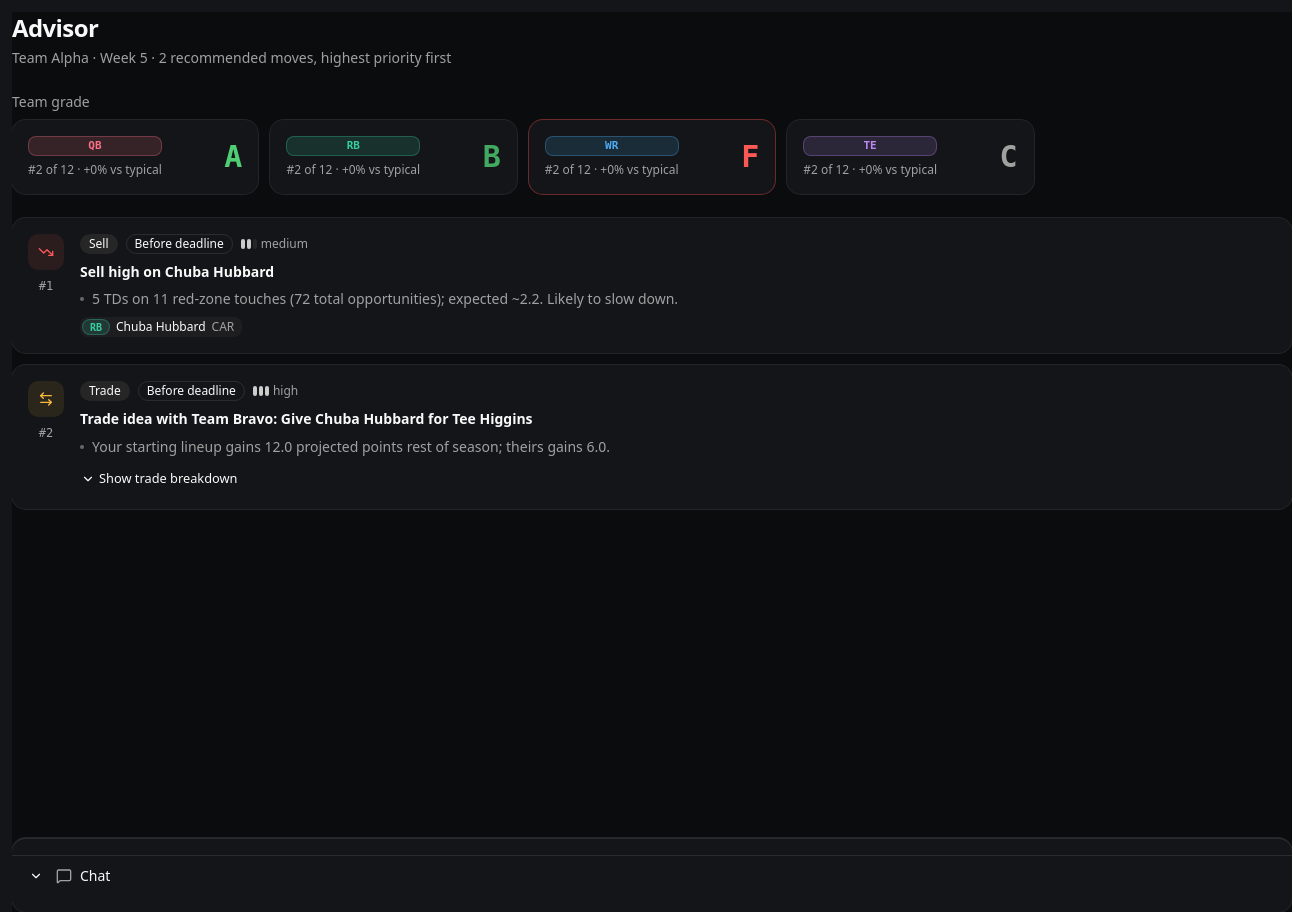
it: AdvisorPage › renders grades and the ranked action feed with reasons
The width and height of the screenshot is (1292, 912).
Check: the heading "Sell high on Chuba Hubbard" is shown, box x1=80 y1=262 x2=274 y2=281
Check: the text "expected ~2.2" is shown, box x1=92 y1=289 x2=678 y2=308
// trade breakdown is collapsible
What coordinates should you click on to do the following:
click the button "Show trade breakdown"
I would click on:
 (159, 478)
Its box is x1=80 y1=464 x2=238 y2=492.
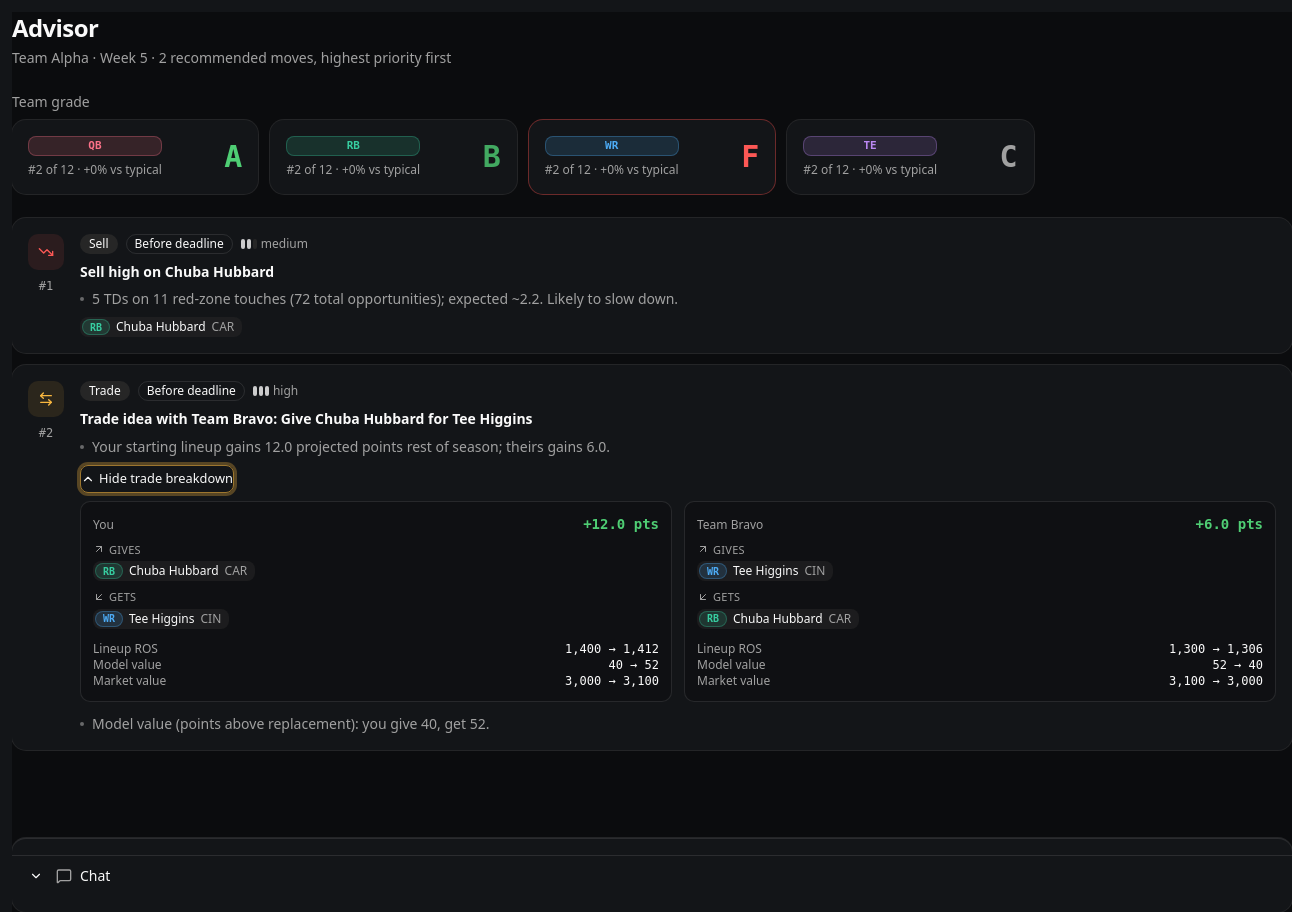
Check: the text "+12.0 pts" is shown, box x1=583 y1=514 x2=659 y2=534
